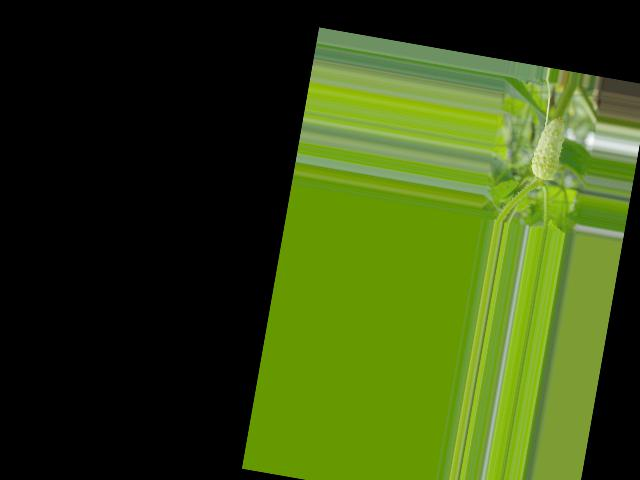cucumber: (528, 113, 567, 182)
